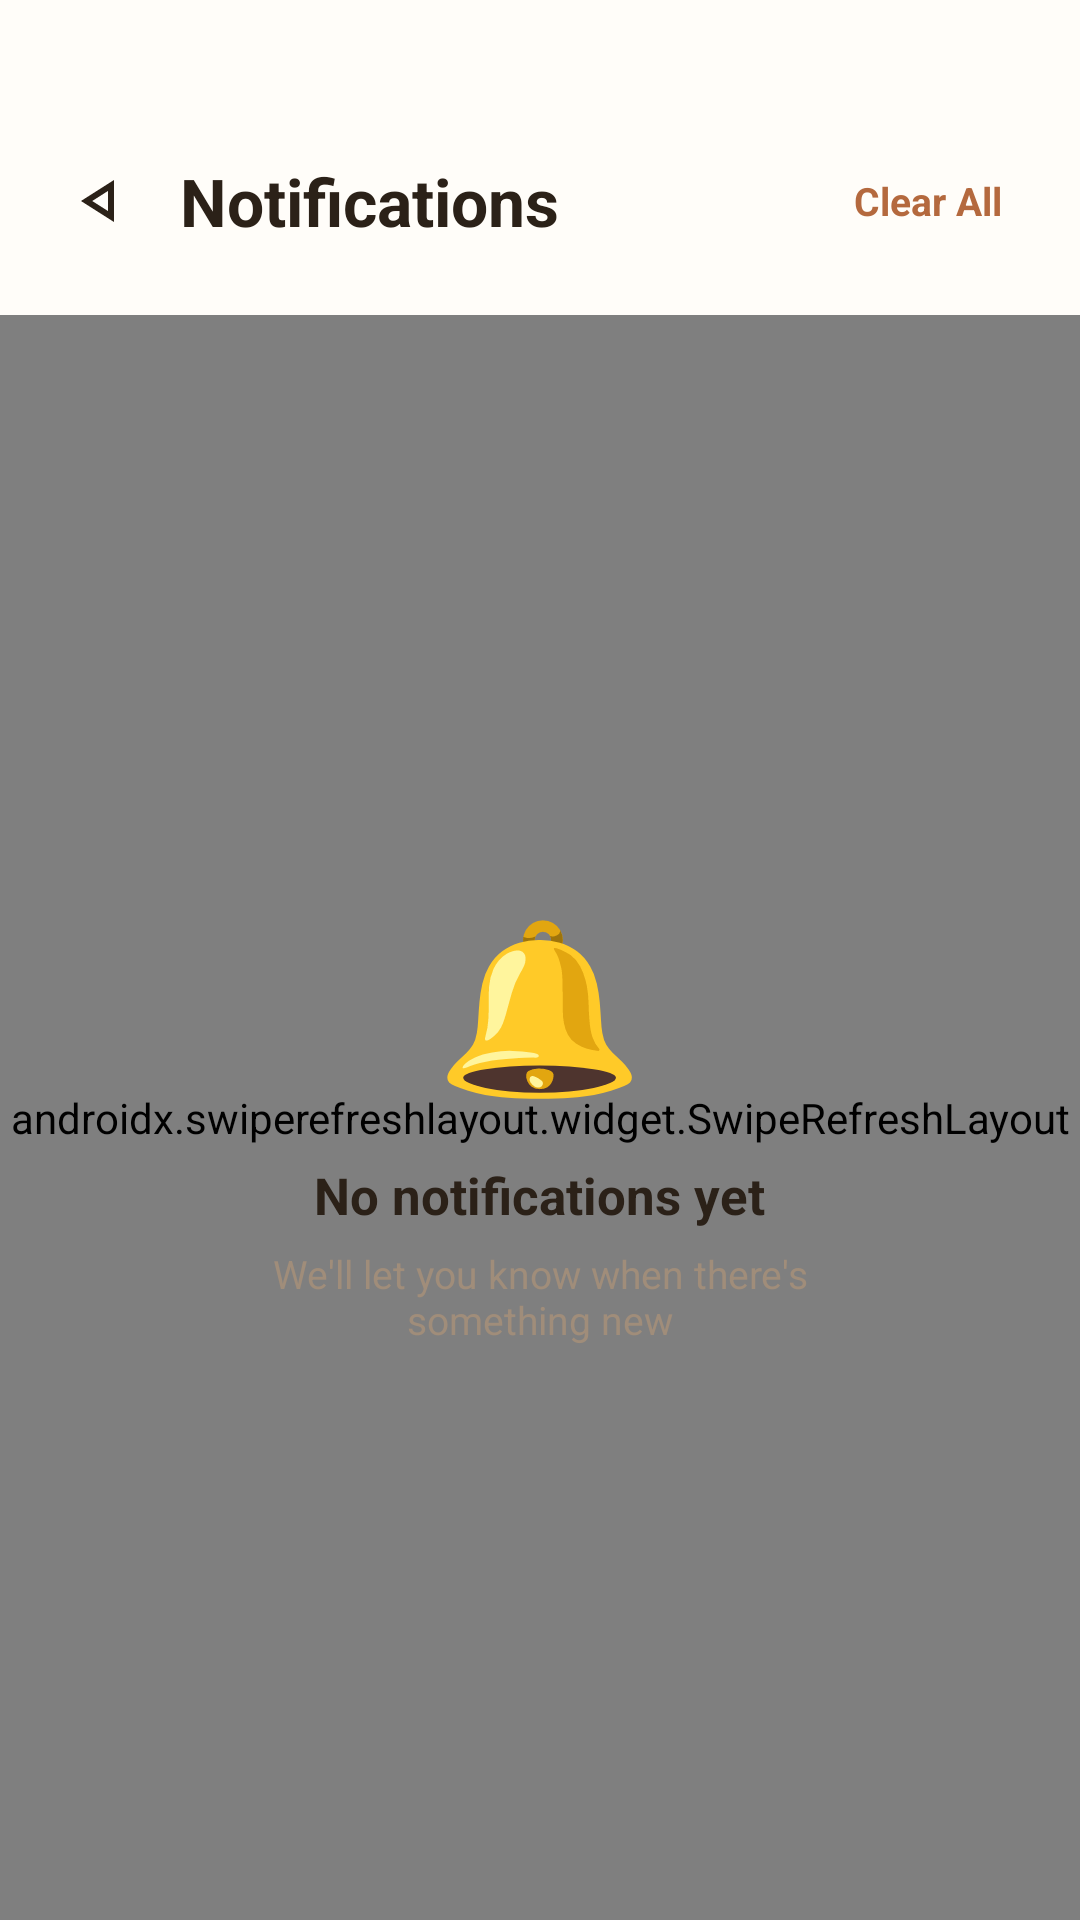

Named icons in this screenshot (1080 × 1920) and their centers, [x,y]:
Back: [97,201]
